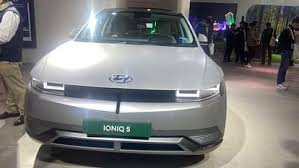Honda Ioniq: (17, 3, 232, 168)
